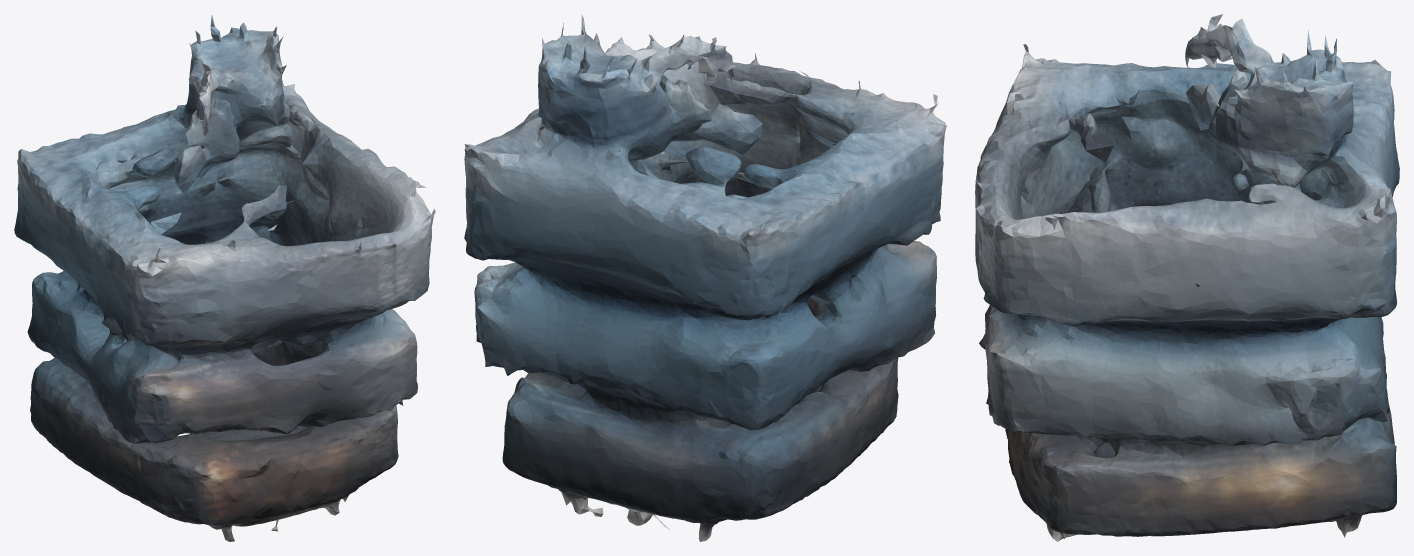
File: paquetes.glb
The picture shows the model from 3 angles, left to right: view 1: azimuth 30°, elevation 25°; view 2: azimuth 150°, elevation 25°; view 3: azimuth 270°, elevation 25°; orthographic projection. The views are drawn at different scales.
Size of the model in its own units: 0.7482 by 0.9616 by 0.738.
1 material, 1 textured.
